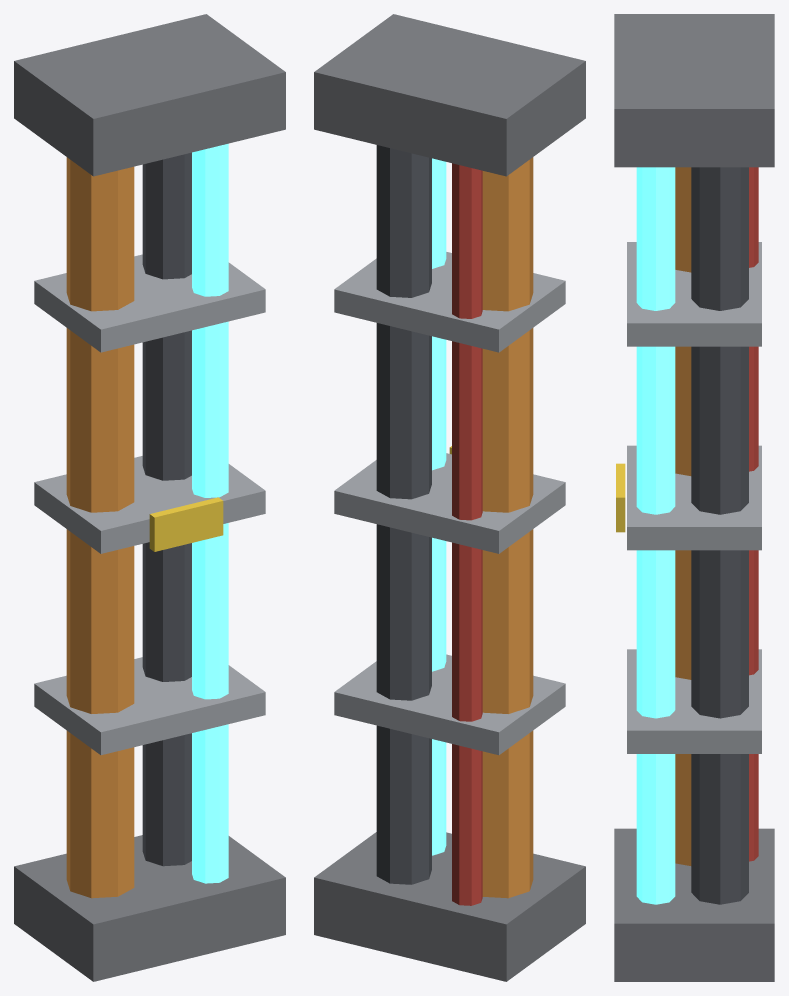
The model's file is SM_Power_Conduit.glb.
3 renders of one model, left to right at view 1: azimuth 30°, elevation 25°; view 2: azimuth 150°, elevation 25°; view 3: azimuth 270°, elevation 25°, orthographic.
Parts seen in each view (by area): view 1: SM_Power_Conduit; view 2: SM_Power_Conduit; view 3: SM_Power_Conduit.
Boxes of the visible parts, x1,y1,x2,y2 form: SM_Power_Conduit: [14, 14, 285, 981]; SM_Power_Conduit: [314, 14, 585, 981]; SM_Power_Conduit: [614, 14, 774, 981].
Size of the model in its own units: 0.7 by 3 by 0.5.
